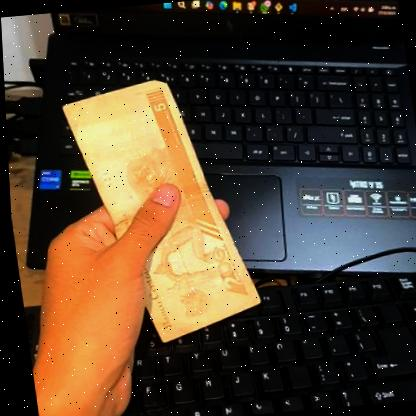five-back-vef: (56, 73, 264, 348)
